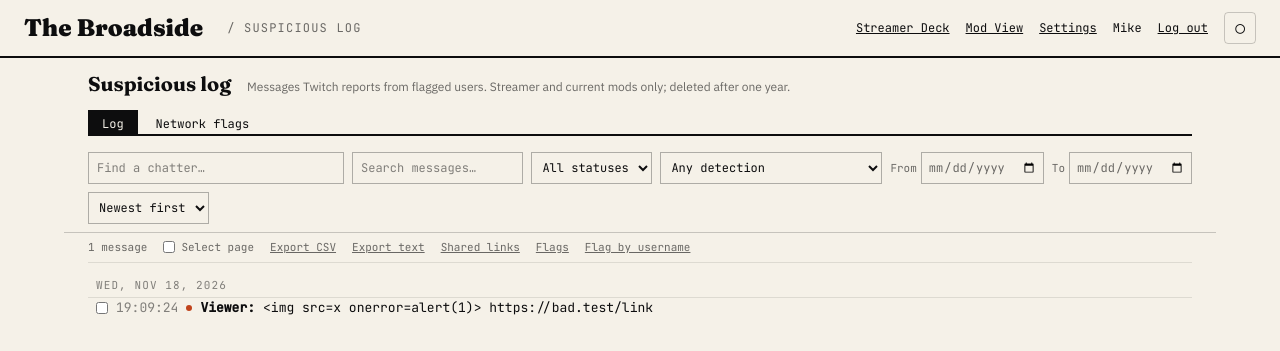
Test case: SuspiciousLogView › shows why a user is flagged when the time is clicked
The width and height of the screenshot is (1280, 351).
Click the button "19:09:24".
click(147, 308)  # box [116,298,178,318]
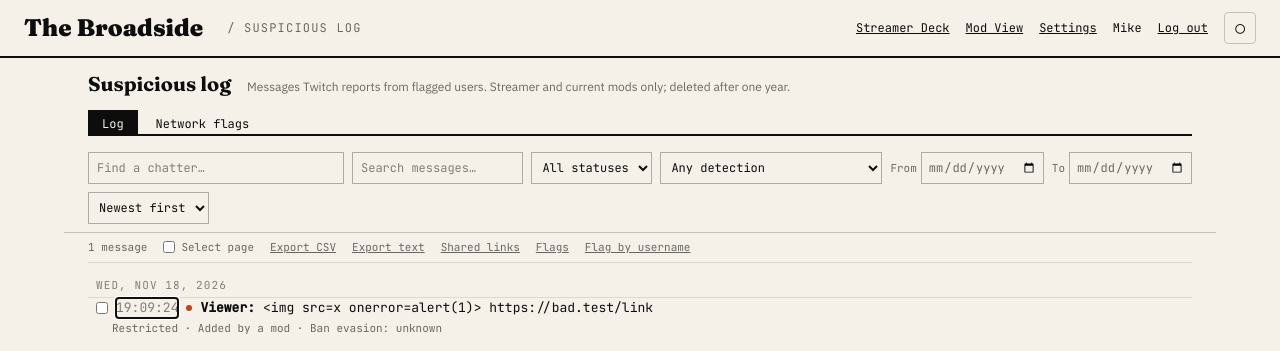
Expected: the text "Restricted · Added by a mod · Ban evasion: unknown" is shown, [112,320,442,334]
